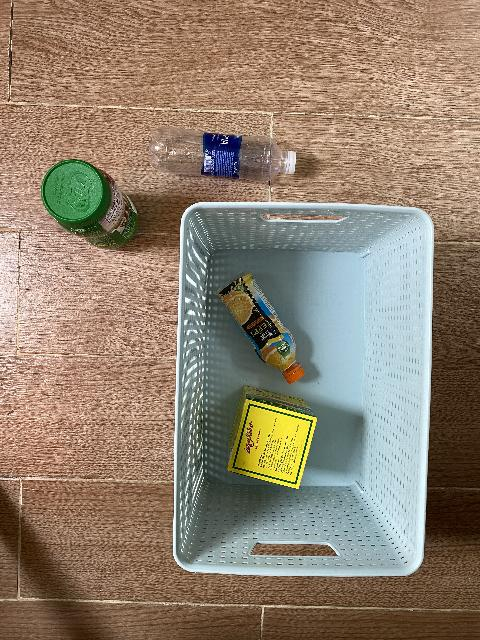aquafina: (149, 127, 297, 183)
cart: (171, 202, 435, 580)
luong_kho: (227, 385, 318, 490)
milo: (40, 159, 138, 250)
teppy_orange_juice: (216, 271, 305, 384)
